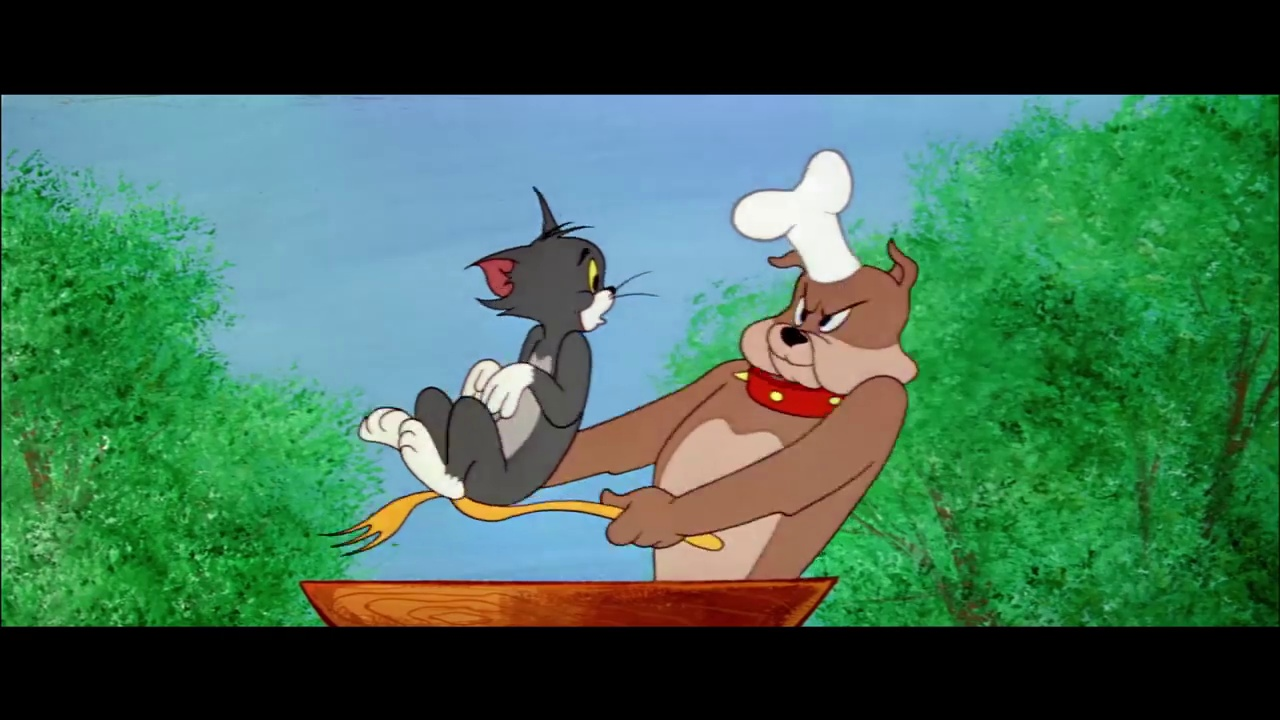spike: (735, 245, 923, 428)
tom: (461, 185, 638, 343)
